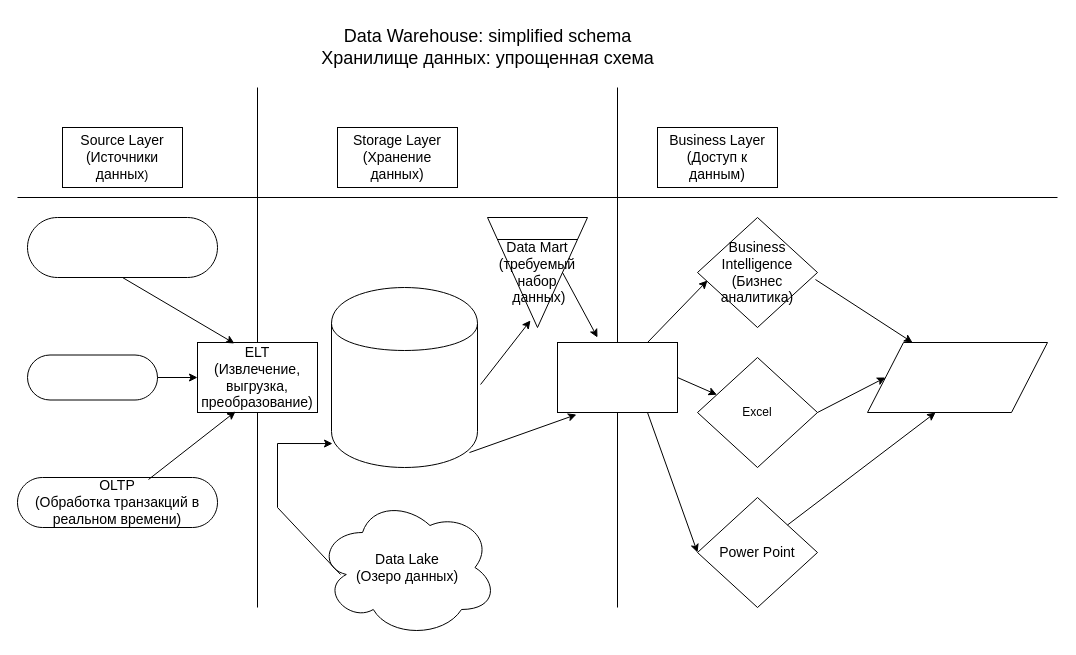
Some shapes in this 1076 by 655 pixel diagram are drawn without their labels. The shapes that lost their labels are listed below. From the top down, each one's box as (x1, y1, x2, y2) in pixels, then its label:
(26, 216, 218, 278): CRM (Система взаимодействия с клиентами)
(26, 354, 158, 400): Files (Excel, CSV)
(330, 286, 478, 468): Data Warehouse (Хранилище данных)
(556, 342, 678, 412): Serve (Предоставление данных)
(866, 342, 1048, 412): Business Decision (Решение на основе данных)
